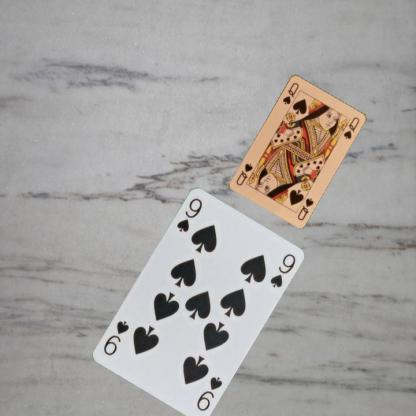9s: (194, 373, 224, 412), (174, 195, 203, 233)
Qs: (280, 80, 300, 106), (295, 196, 315, 222)
